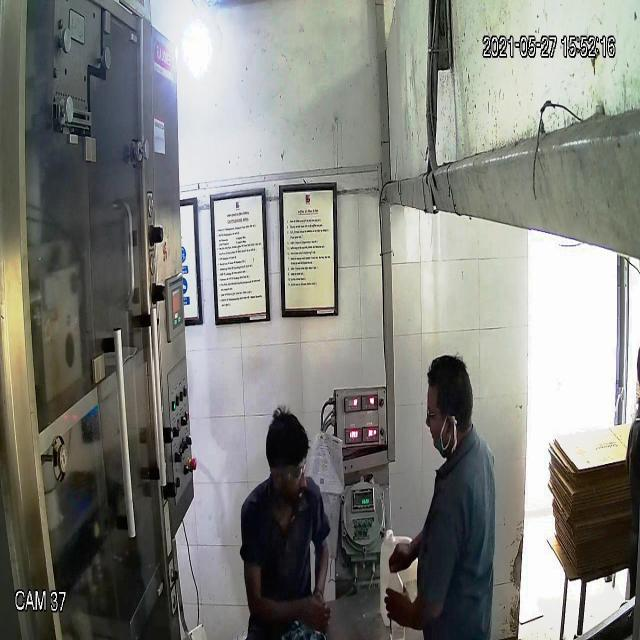glasses: (265, 456, 311, 488)
